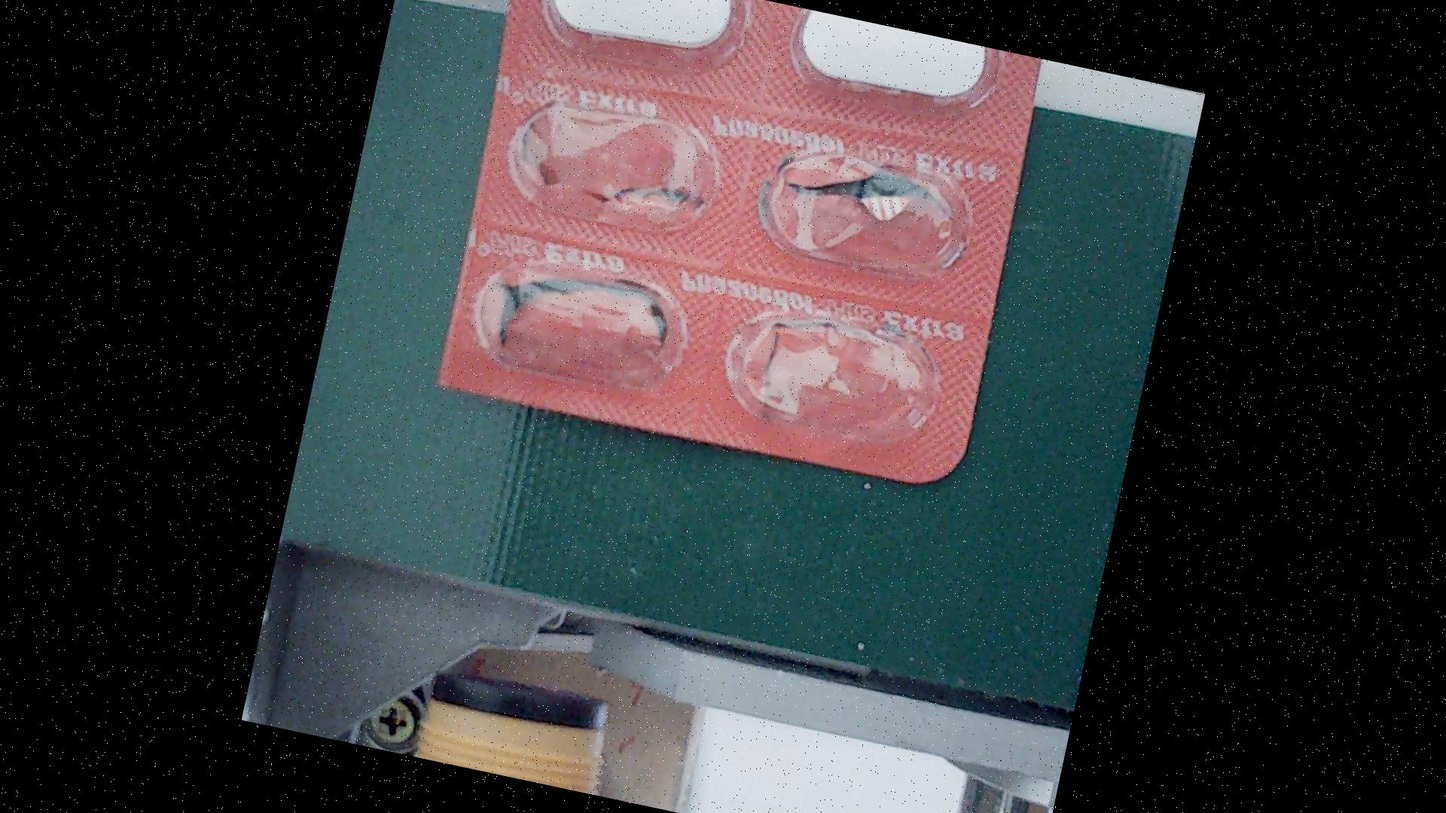Empty: (709, 287, 954, 452), (738, 129, 983, 294), (447, 239, 691, 404), (491, 83, 735, 248)
Full: (769, 4, 1006, 128), (518, 0, 755, 84)
